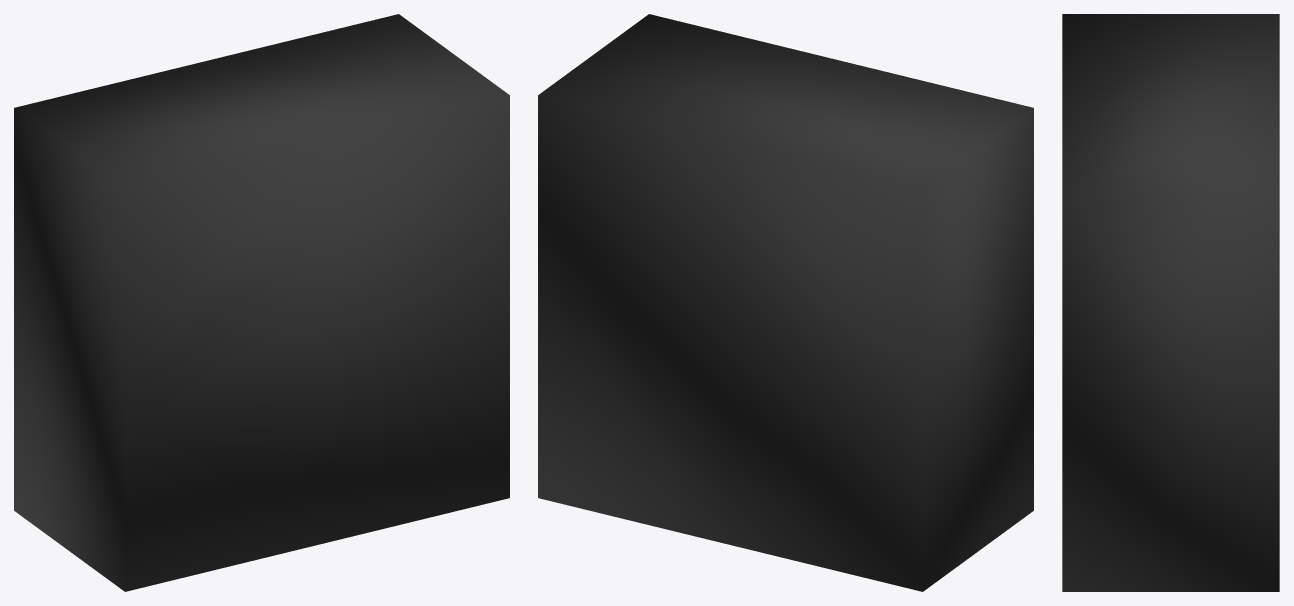
File: a-floor.fbx
The picture shows the model from 3 angles, left to right: view 1: azimuth 30°, elevation 25°; view 2: azimuth 150°, elevation 25°; view 3: azimuth 270°, elevation 25°; orthographic projection. The views are drawn at different scales.
Visible parts, largest first — view 1: floor1_005; view 2: floor1_005; view 3: floor1_005.
Part boxes in pixels (x1,y1,x2,y2): floor1_005: (14, 14, 509, 591); floor1_005: (538, 14, 1033, 591); floor1_005: (1062, 14, 1279, 591).
Size of the model in its own units: 2 by 2 by 1.
